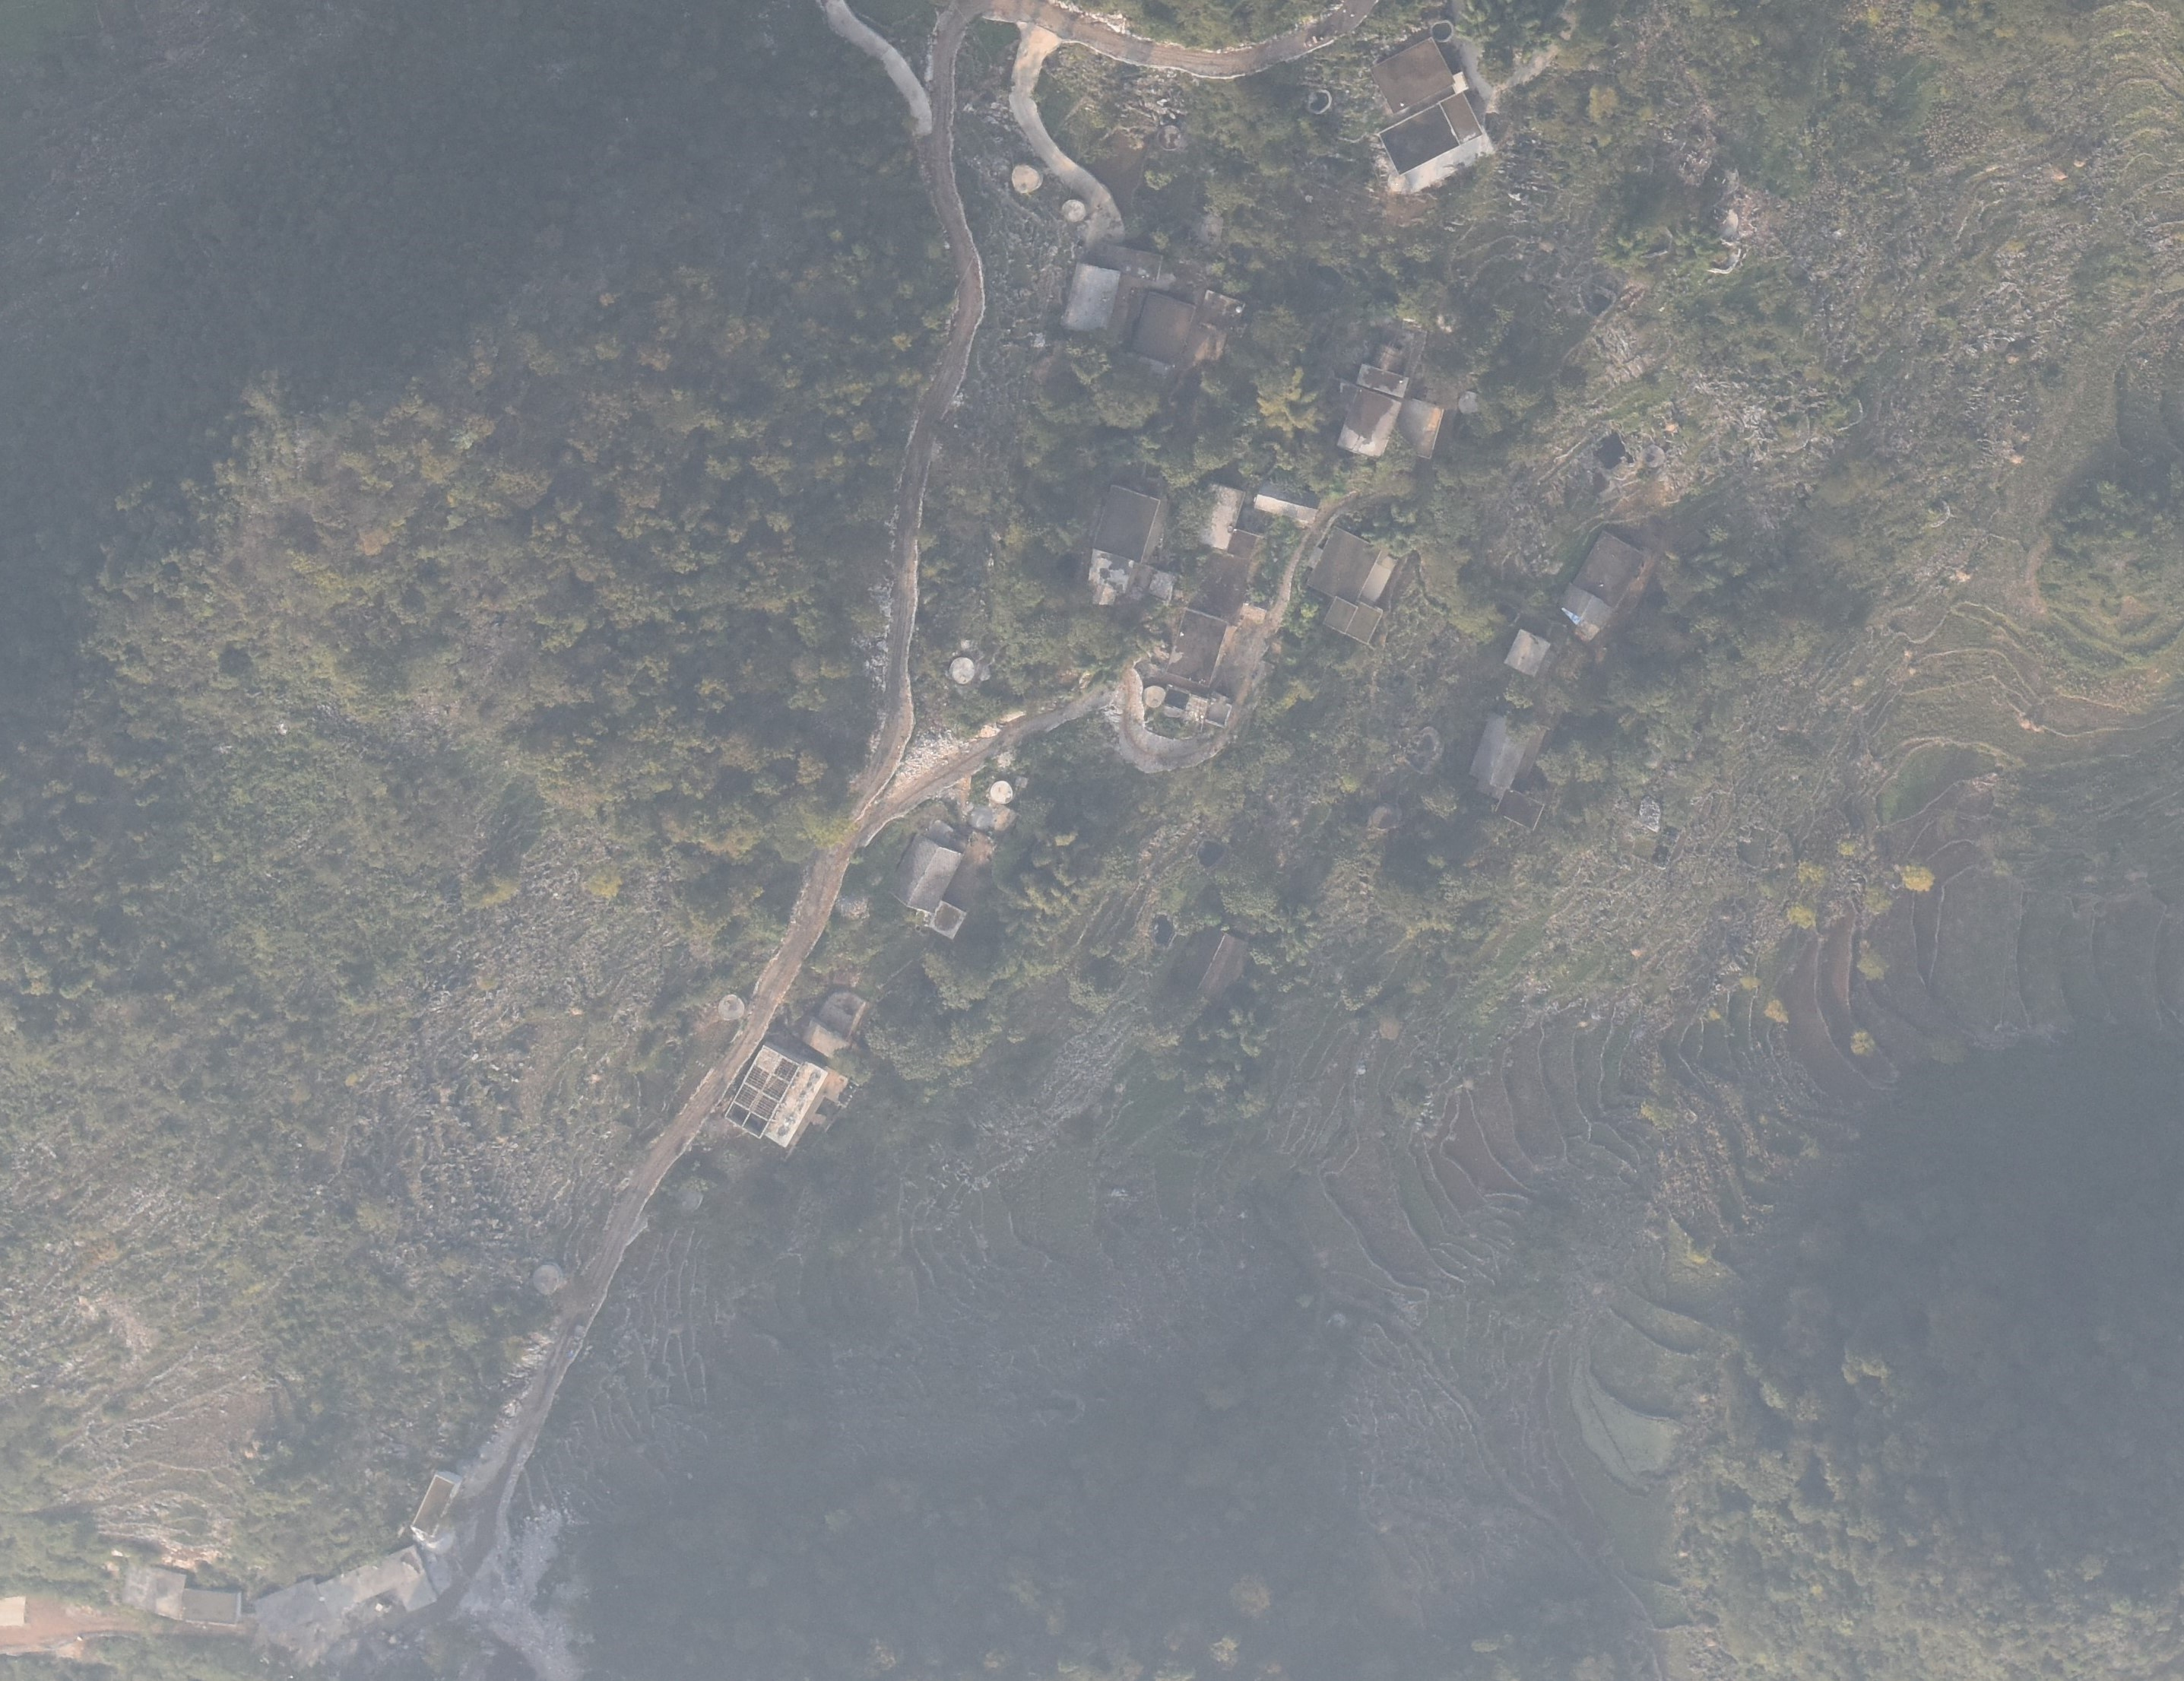building: (724, 1042, 830, 1155), (316, 1547, 440, 1633), (1367, 35, 1458, 115), (1570, 526, 1649, 614), (1172, 915, 1248, 1006), (1372, 104, 1464, 175), (888, 832, 964, 916), (1305, 526, 1384, 606), (1089, 482, 1162, 567), (1183, 547, 1255, 627), (1162, 604, 1229, 687), (1130, 290, 1201, 366), (1335, 385, 1402, 459), (1059, 258, 1123, 334), (258, 1579, 328, 1640), (1471, 715, 1533, 786), (120, 1561, 187, 1621), (1197, 477, 1248, 549), (410, 1469, 461, 1540), (1250, 477, 1321, 524), (1395, 390, 1444, 457), (1093, 240, 1164, 283), (1555, 583, 1615, 630), (1084, 547, 1139, 597), (177, 1587, 242, 1628), (1439, 90, 1483, 147), (817, 991, 867, 1038), (798, 1014, 849, 1059), (1494, 786, 1545, 832), (1352, 362, 1407, 403), (1502, 629, 1550, 675), (925, 899, 971, 941), (1321, 593, 1359, 637), (1347, 597, 1379, 646), (1146, 567, 1178, 602), (1227, 526, 1259, 562), (1089, 583, 1118, 611), (1448, 71, 1471, 97)
well: (531, 1261, 567, 1296), (1010, 164, 1049, 194), (715, 991, 745, 1021), (948, 655, 978, 685), (1155, 124, 1183, 152), (990, 780, 1019, 807), (1061, 196, 1088, 224), (1141, 685, 1165, 713), (1458, 390, 1483, 417)
